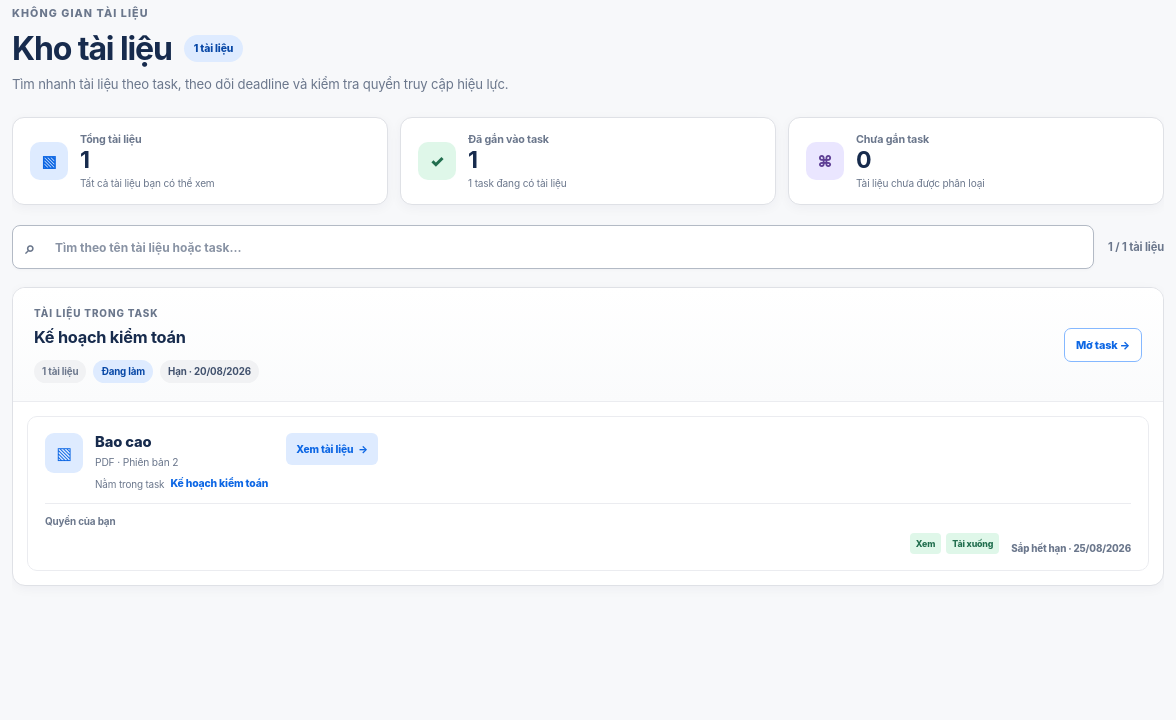
Test case: filters the read-only library by document or task name
The width and height of the screenshot is (1176, 720).
Expected: the link "Bao cao" is shown, [95,433,151,451]
Type "kế hoạch" into the field with placeholder "Tìm theo tên tài liệu hoặc task..." at [563, 247], box [44,227,1081,267]
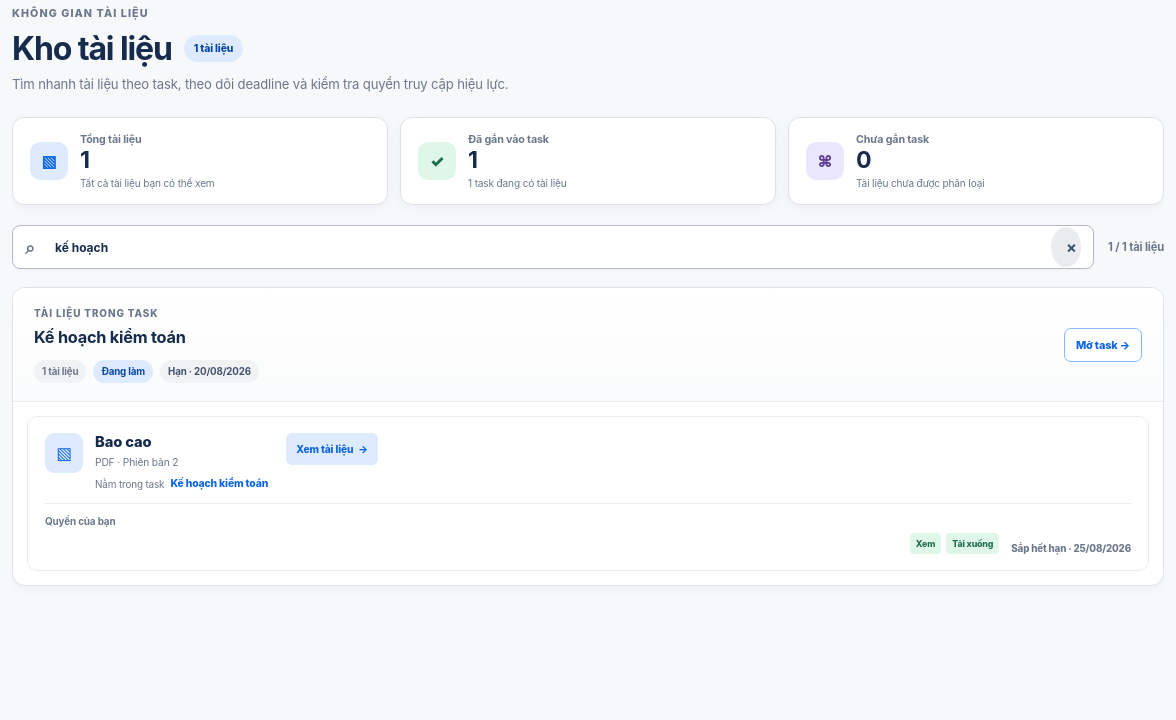
Expected: the heading "Kế hoạch kiểm toán" is shown, [34,327,186,347]
Replace the text in the field with placeholder "Tìm theo tên tài liệu hoặc task..." with "không tồn tại" at [543, 247], box [44,227,1042,267]
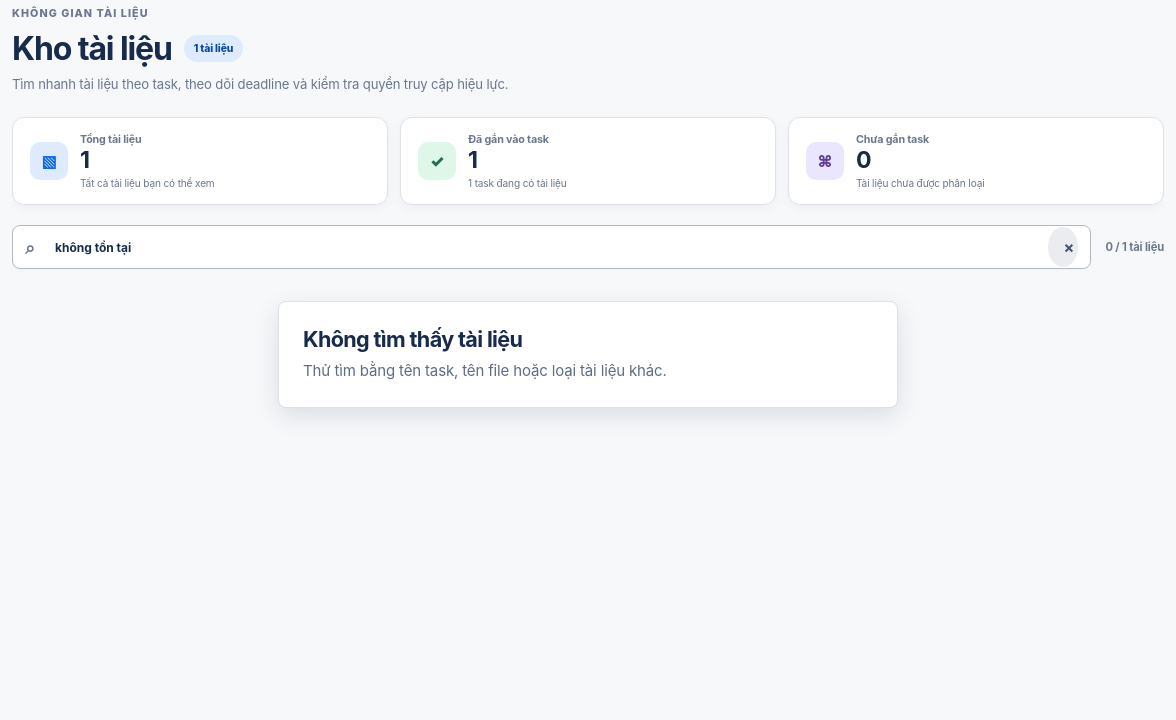
Expected: the heading "Không tìm thấy tài liệu" is shown, [303,326,522,352]
